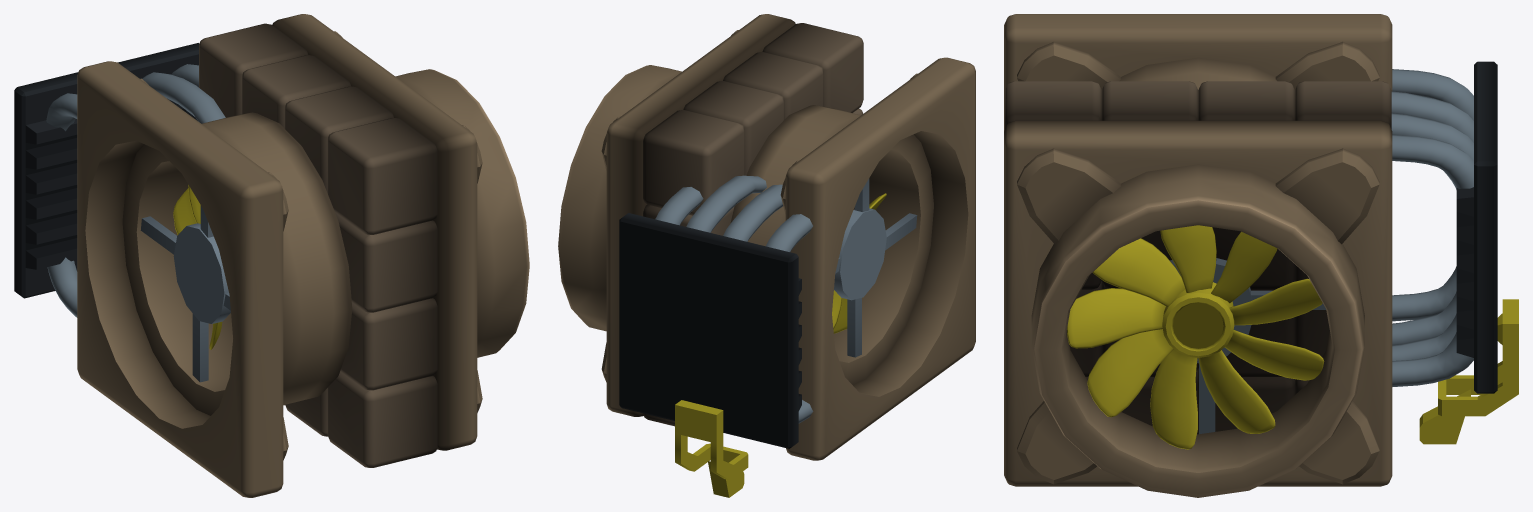
File: Cooling_systems_lvl_06_V04.fbx
3 renders of one model, left to right at view 1: azimuth 30°, elevation 25°; view 2: azimuth 150°, elevation 25°; view 3: azimuth 270°, elevation 25°, orthographic. The views are drawn at different scales.
Visible parts, largest first — view 1: Body_Cooling, Fan_Cooling_01; view 2: Body_Cooling, Fan_Cooling_01; view 3: Body_Cooling, Fan_Cooling_01.
Part boxes in pixels (bbox=[...]): Body_Cooling: bbox=[14, 14, 529, 497]; Fan_Cooling_01: bbox=[173, 185, 222, 349]; Body_Cooling: bbox=[558, 14, 975, 497]; Fan_Cooling_01: bbox=[832, 193, 886, 333]; Body_Cooling: bbox=[1004, 14, 1518, 497]; Fan_Cooling_01: bbox=[1067, 225, 1324, 449].
Size of the model in its own units: 41.69 by 43.61 by 52.6.
